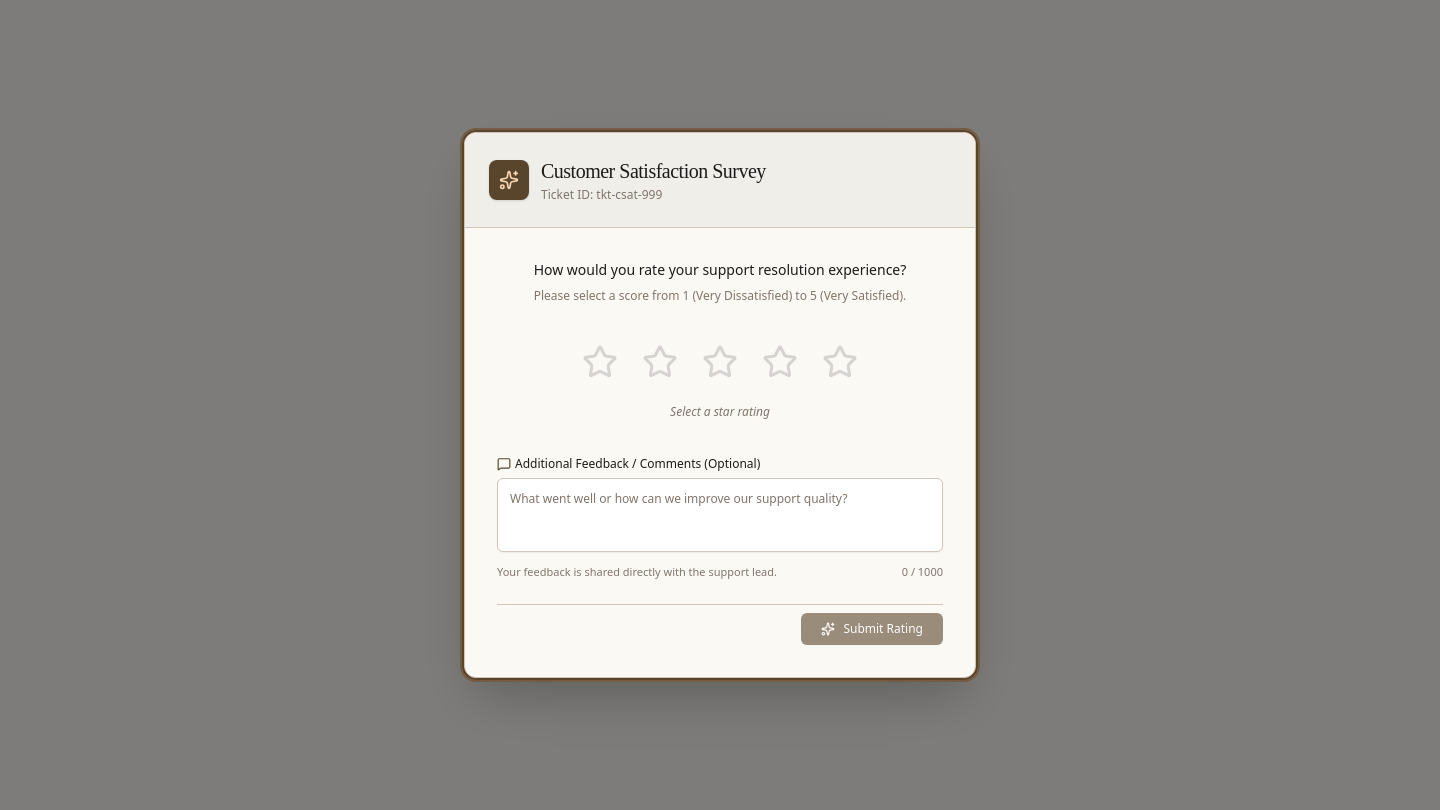
it: CSATRatingModal Component & Helper Functions › Star Rating Interactions › shows hover score on star mouseover
Hover over the radio button with test id "csat-star-5" at (840, 362), box [814,336,866,388]
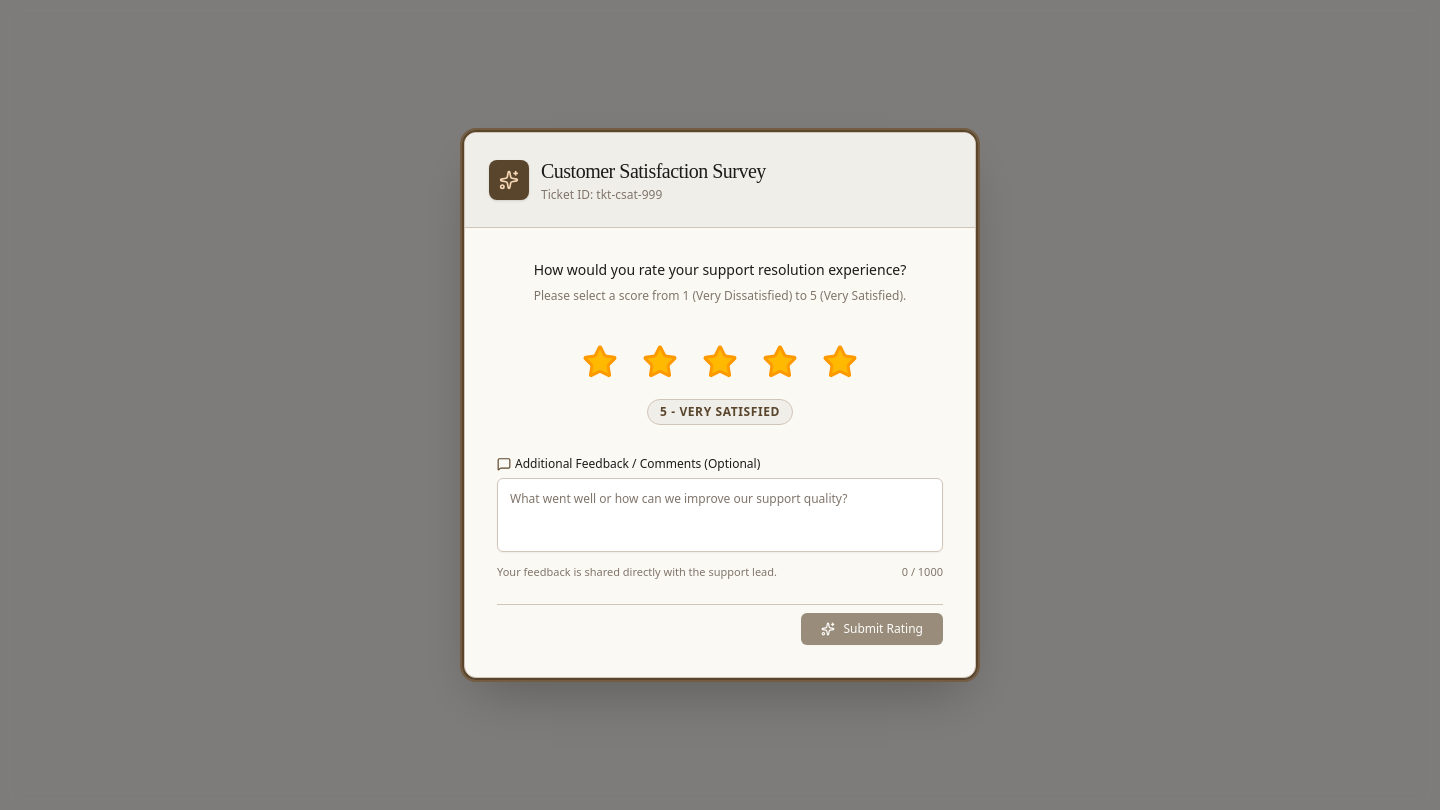
Check: the text with test id "csat-active-rating-label" reads "5 - Very Satisfied", box [647,399,793,425]
Move the pointer off the radio button with test id "csat-star-5", box [814,336,866,388]
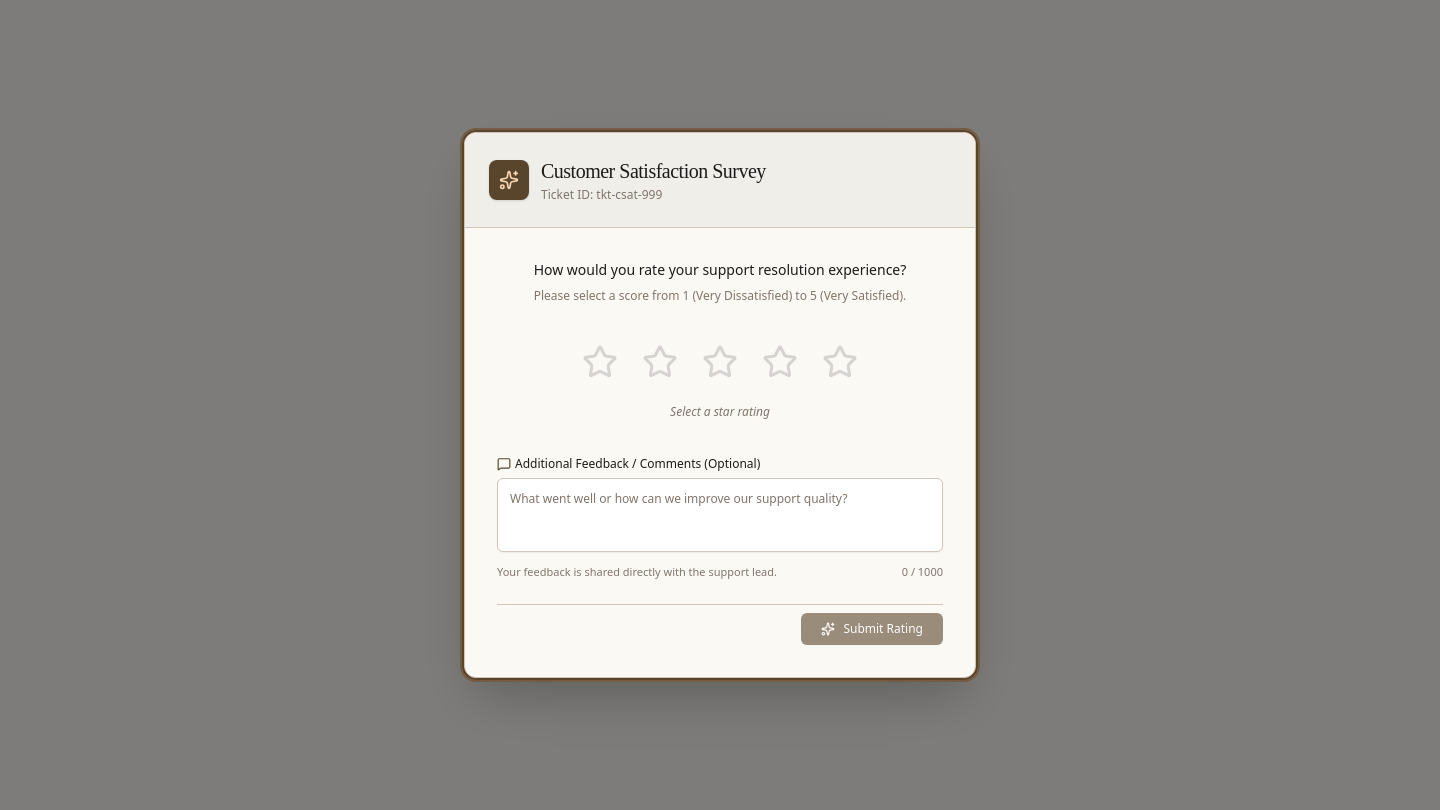
Check: the text "Select a star rating" is shown, box [670,404,770,420]
